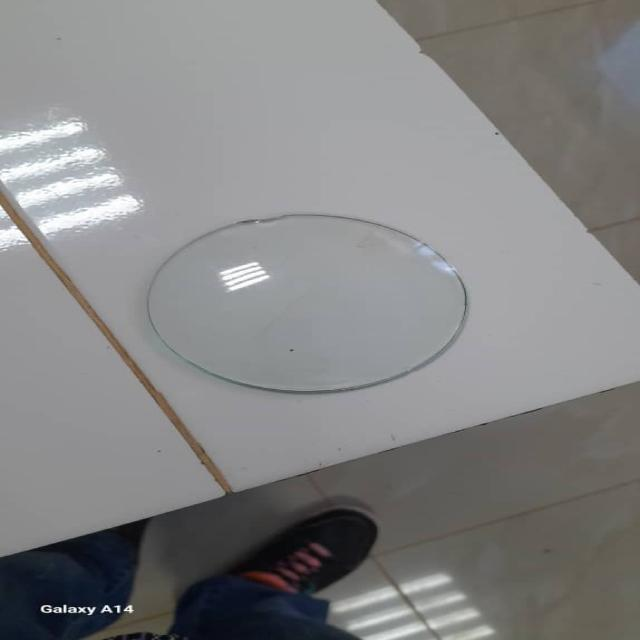Pedrish: (138, 212, 468, 400)
